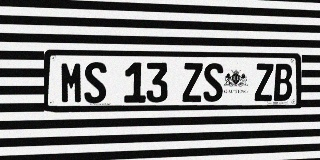1: (124, 62, 146, 103)
3: (146, 62, 167, 103)
B: (274, 64, 292, 101)
M: (60, 62, 83, 104)
S: (84, 62, 107, 103), (203, 63, 223, 102)
Z: (182, 63, 203, 102), (254, 63, 273, 101)
